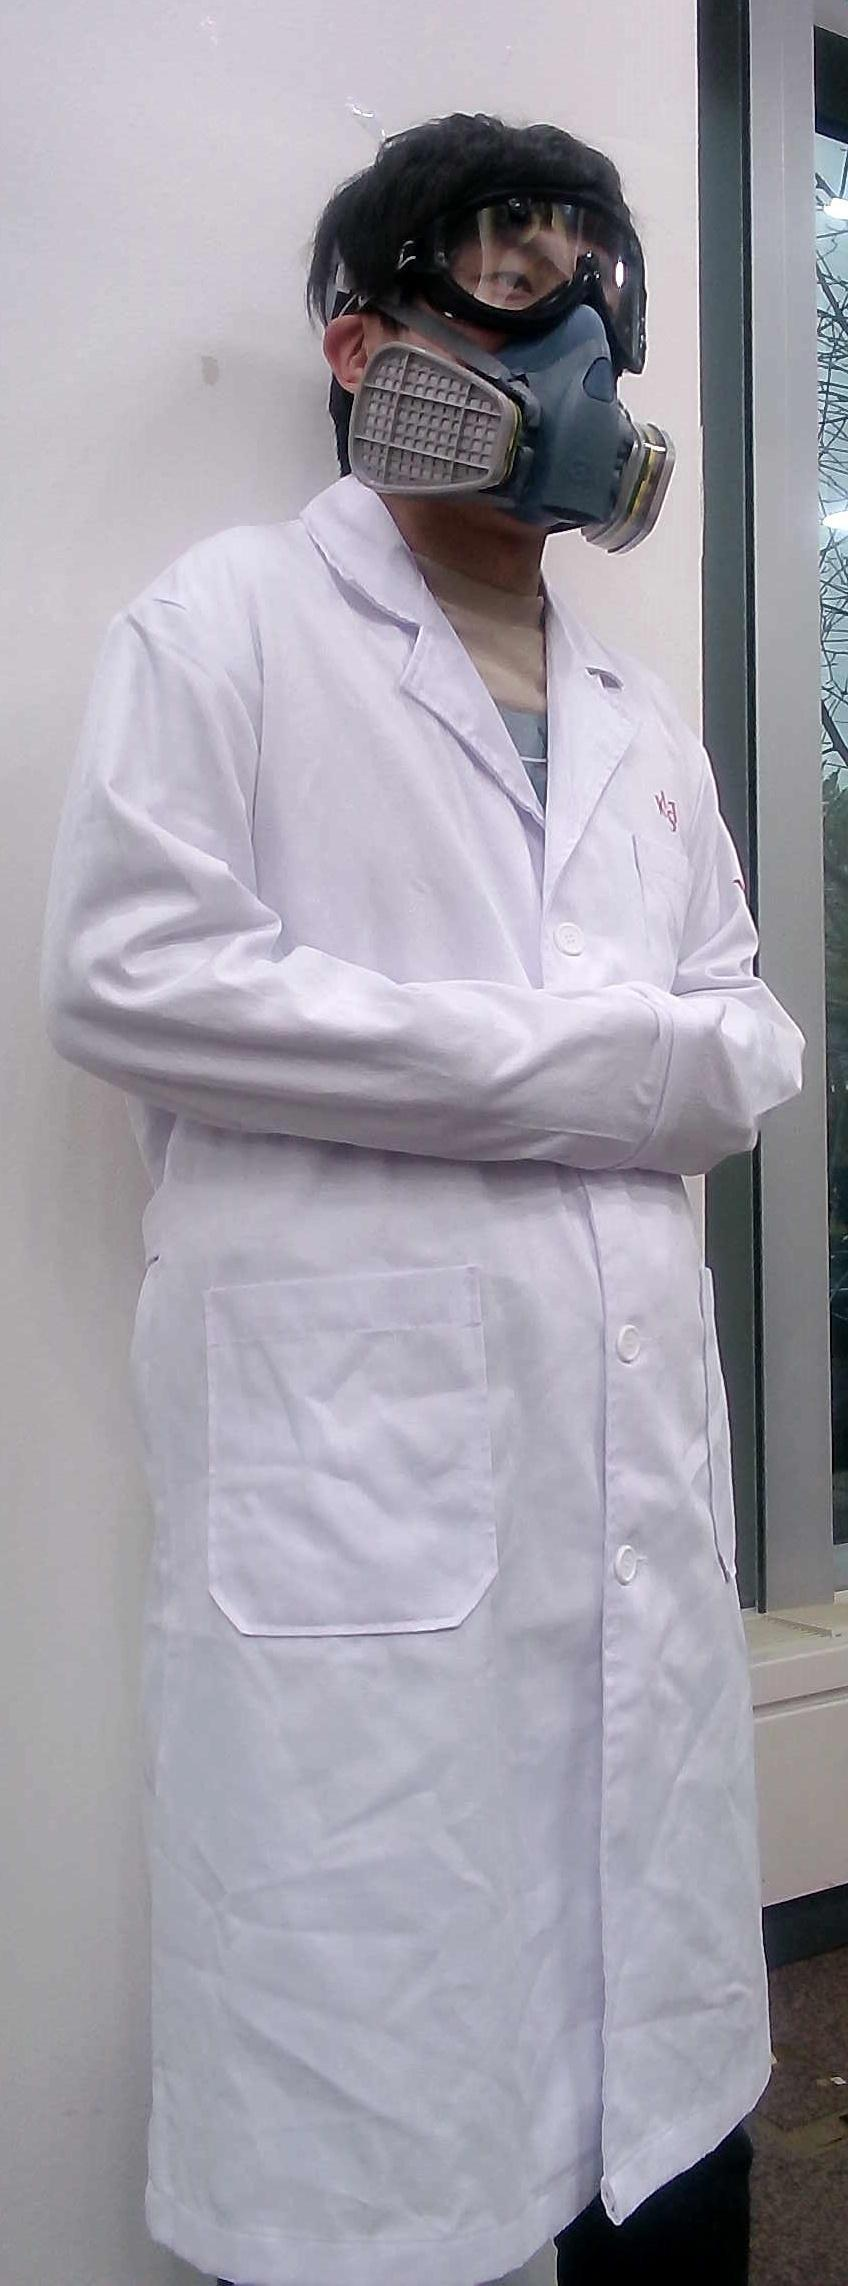lab_coat: (76, 555, 791, 2213)
